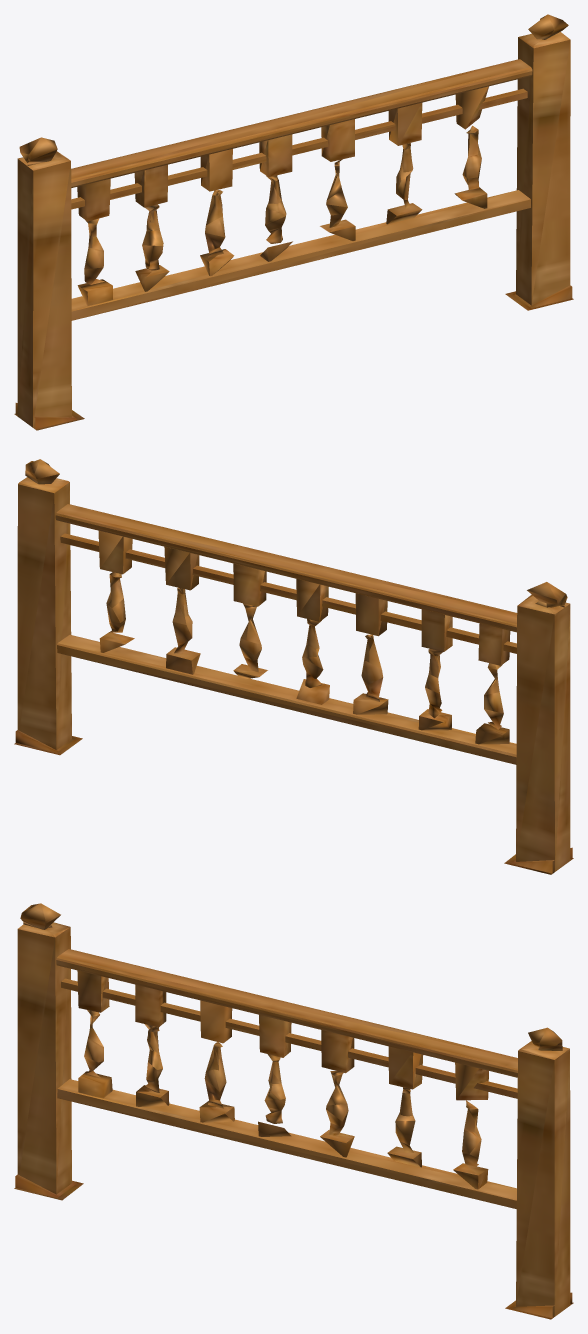
File: railing.lod2.glb
3 renders of one model, top to bottom at view 1: azimuth 30°, elevation 25°; view 2: azimuth 150°, elevation 25°; view 3: azimuth 330°, elevation 25°, orthographic.
Size of the model in its own units: 2 by 1 by 0.1487.
1 material, 1 textured.
